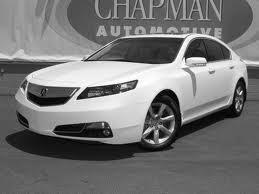car: (13, 35, 250, 153)
